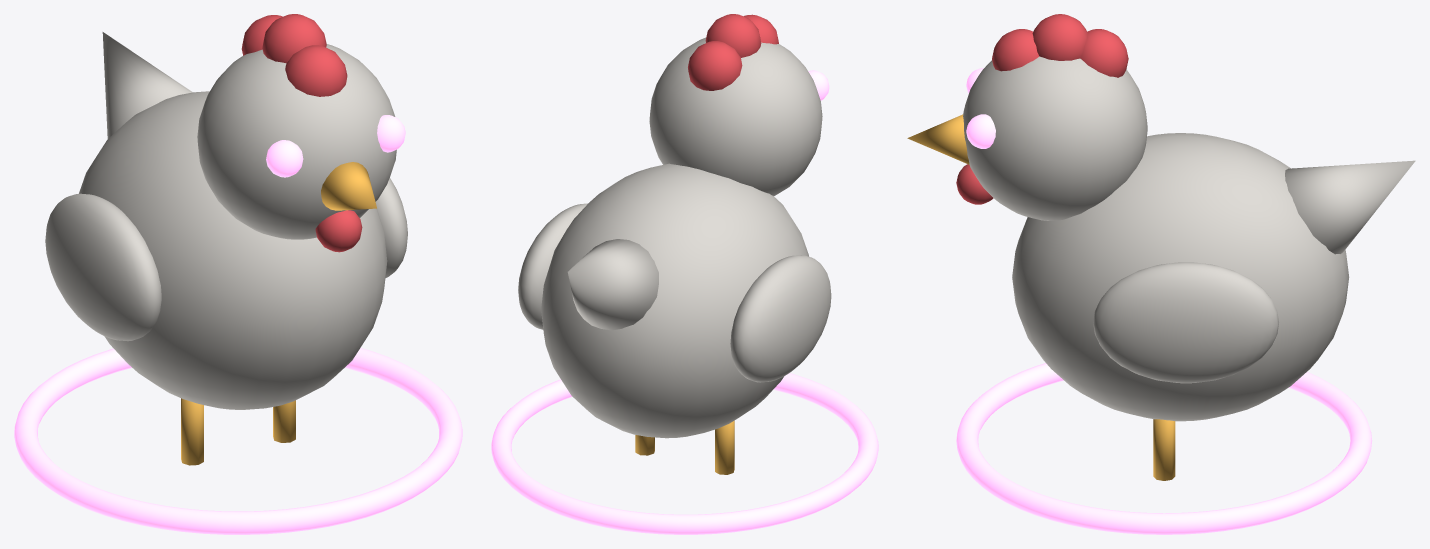
The model's file is Chicken.fbx.
The picture shows the model from 3 angles, left to right: view 1: azimuth 30°, elevation 25°; view 2: azimuth 150°, elevation 25°; view 3: azimuth 270°, elevation 25°; orthographic projection. The views are drawn at different scales.
Visible parts, largest first — view 1: Body.001, Head, Ring.001, WingL, Tail, Comb0, Beak, Comb1, WingR, Wattle, LegL, EyeL.001 (+3 smaller); view 2: Body.001, Head, Ring.001, WingL, Tail, WingR, Comb2, Comb1, LegL, Comb0; view 3: Body.001, Head, WingR, Ring.001, Tail, Comb1, Comb2, Beak, Comb0, LegR, Wattle, EyeR.001.
Boxes of the visible parts, bbox=[...] form: Body.001: bbox=[79, 91, 387, 409]; Head: bbox=[197, 44, 396, 239]; Ring.001: bbox=[14, 347, 462, 534]; WingL: bbox=[45, 193, 161, 341]; Tail: bbox=[102, 32, 192, 138]; Comb0: bbox=[285, 45, 347, 96]; Beak: bbox=[321, 162, 376, 210]; Comb1: bbox=[262, 14, 326, 63]; WingR: bbox=[375, 178, 407, 278]; Wattle: bbox=[315, 210, 362, 252]; LegL: bbox=[181, 398, 203, 465]; EyeL.001: bbox=[266, 140, 303, 177]; Body.001: bbox=[541, 163, 808, 438]; Head: bbox=[649, 37, 822, 195]; Ring.001: bbox=[491, 373, 878, 534]; WingL: bbox=[730, 255, 831, 382]; Tail: bbox=[567, 239, 658, 330]; WingR: bbox=[518, 203, 587, 329]; Comb2: bbox=[688, 41, 742, 90]; Comb1: bbox=[705, 14, 761, 57]; LegL: bbox=[715, 420, 734, 474]; Comb0: bbox=[743, 14, 778, 44]; Body.001: bbox=[1012, 133, 1349, 421]; Head: bbox=[963, 56, 1147, 220]; WingR: bbox=[1093, 262, 1278, 383]; Ring.001: bbox=[956, 363, 1372, 534]; Tail: bbox=[1285, 160, 1415, 254]; Comb1: bbox=[1032, 14, 1087, 60]; Comb2: bbox=[1080, 29, 1128, 77]; Beak: bbox=[907, 114, 969, 164]; Comb0: bbox=[992, 29, 1039, 71]; LegR: bbox=[1153, 419, 1175, 480]; Wattle: bbox=[956, 164, 993, 204]; EyeR.001: bbox=[966, 114, 995, 148].
Bounding box in the file's own units: 0.76 × 0.885 × 0.9299.
